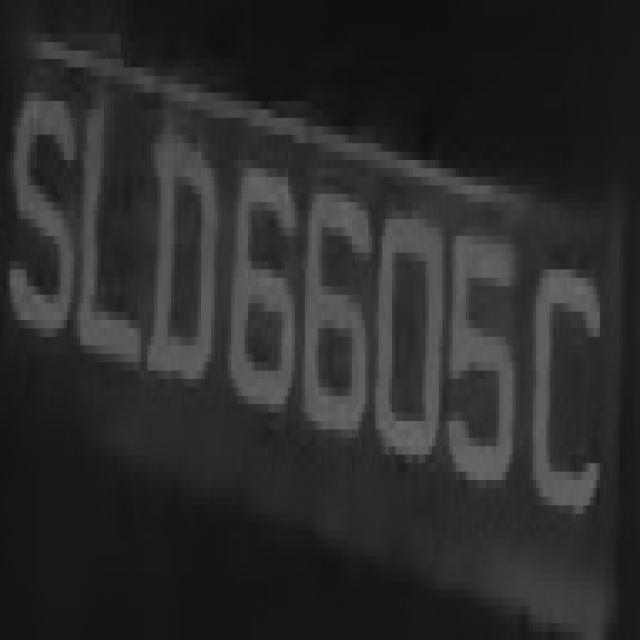0: (368, 152, 446, 472)
5: (446, 185, 530, 497)
6: (288, 134, 372, 472), (228, 126, 295, 421)
C: (536, 219, 610, 547)
D: (148, 118, 221, 413)
L: (67, 84, 147, 379)
S: (4, 34, 80, 354)
